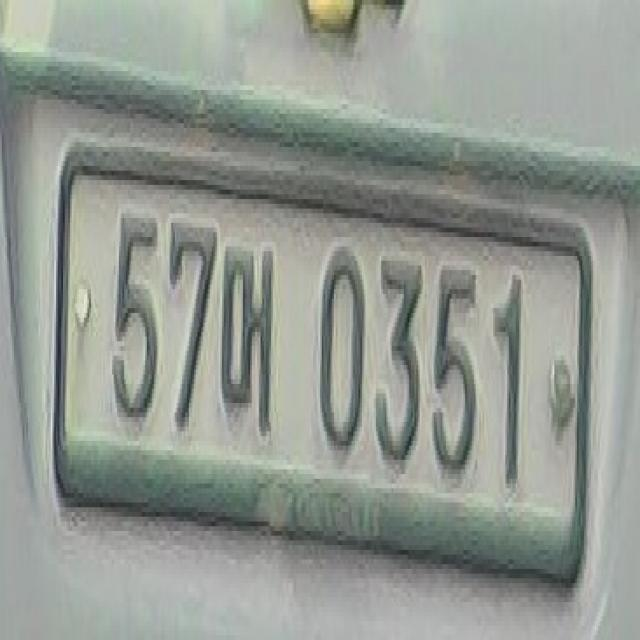0: (314, 228, 366, 457)
1: (486, 255, 525, 499)
3: (374, 244, 424, 468)
5: (110, 204, 159, 427), (430, 252, 477, 480)
7: (164, 202, 216, 438)
license_plate: (44, 126, 599, 604)
meo: (220, 226, 278, 446)
